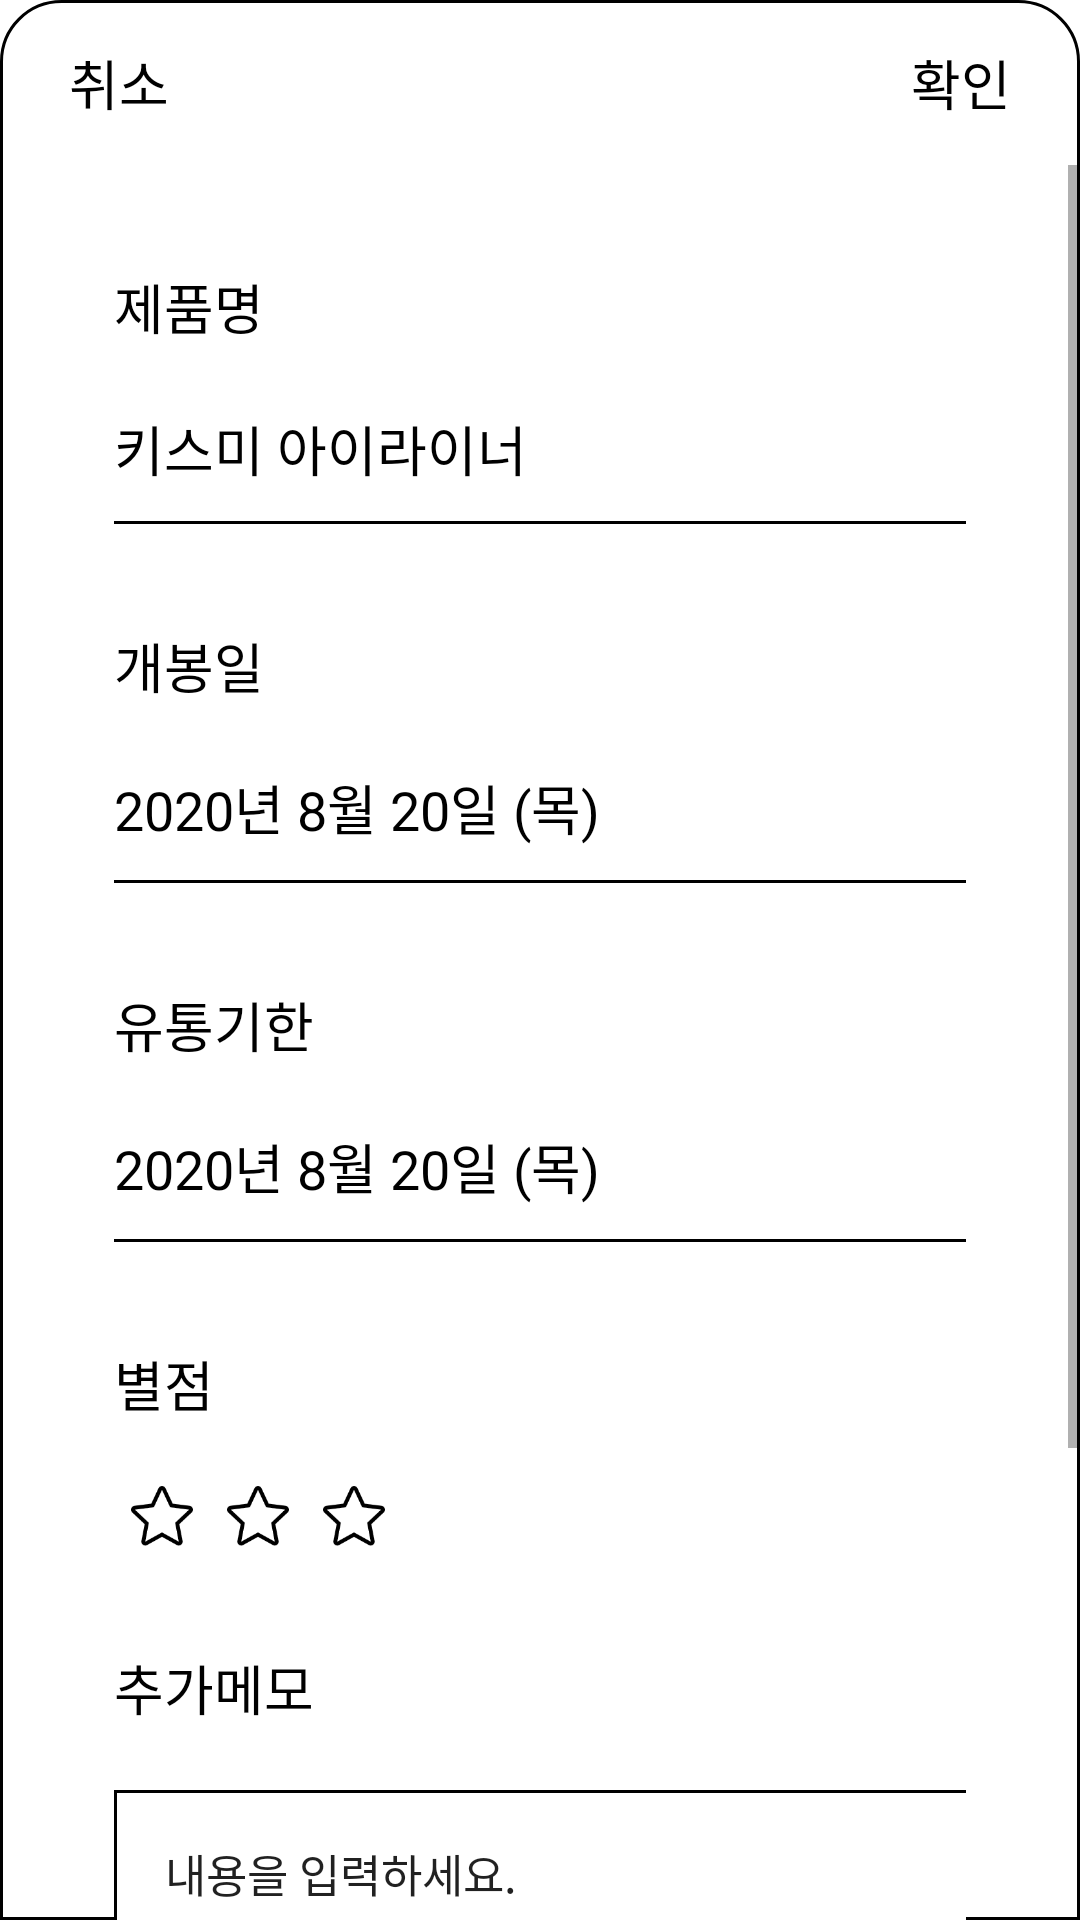

Icons on this 1080px x 1920px Android screen, each with its box as (x1, y1, x2, y2):
empty star: (131, 1486, 193, 1546), (227, 1486, 289, 1546), (323, 1486, 385, 1546)
